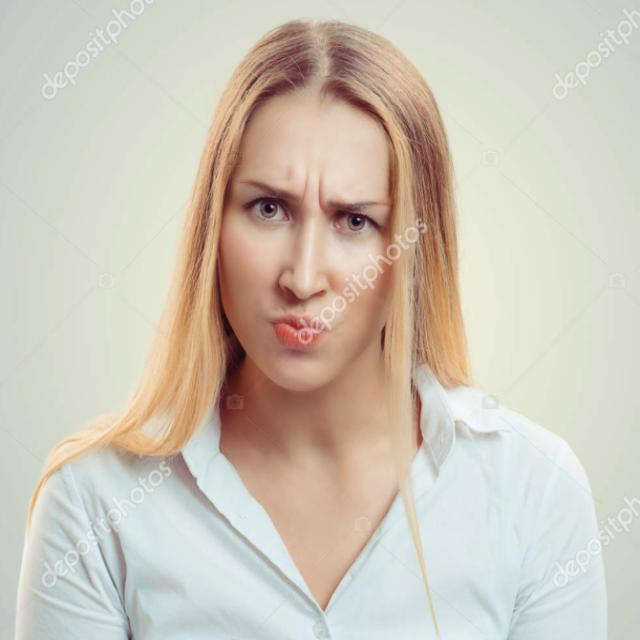angry: (196, 127, 424, 359)
